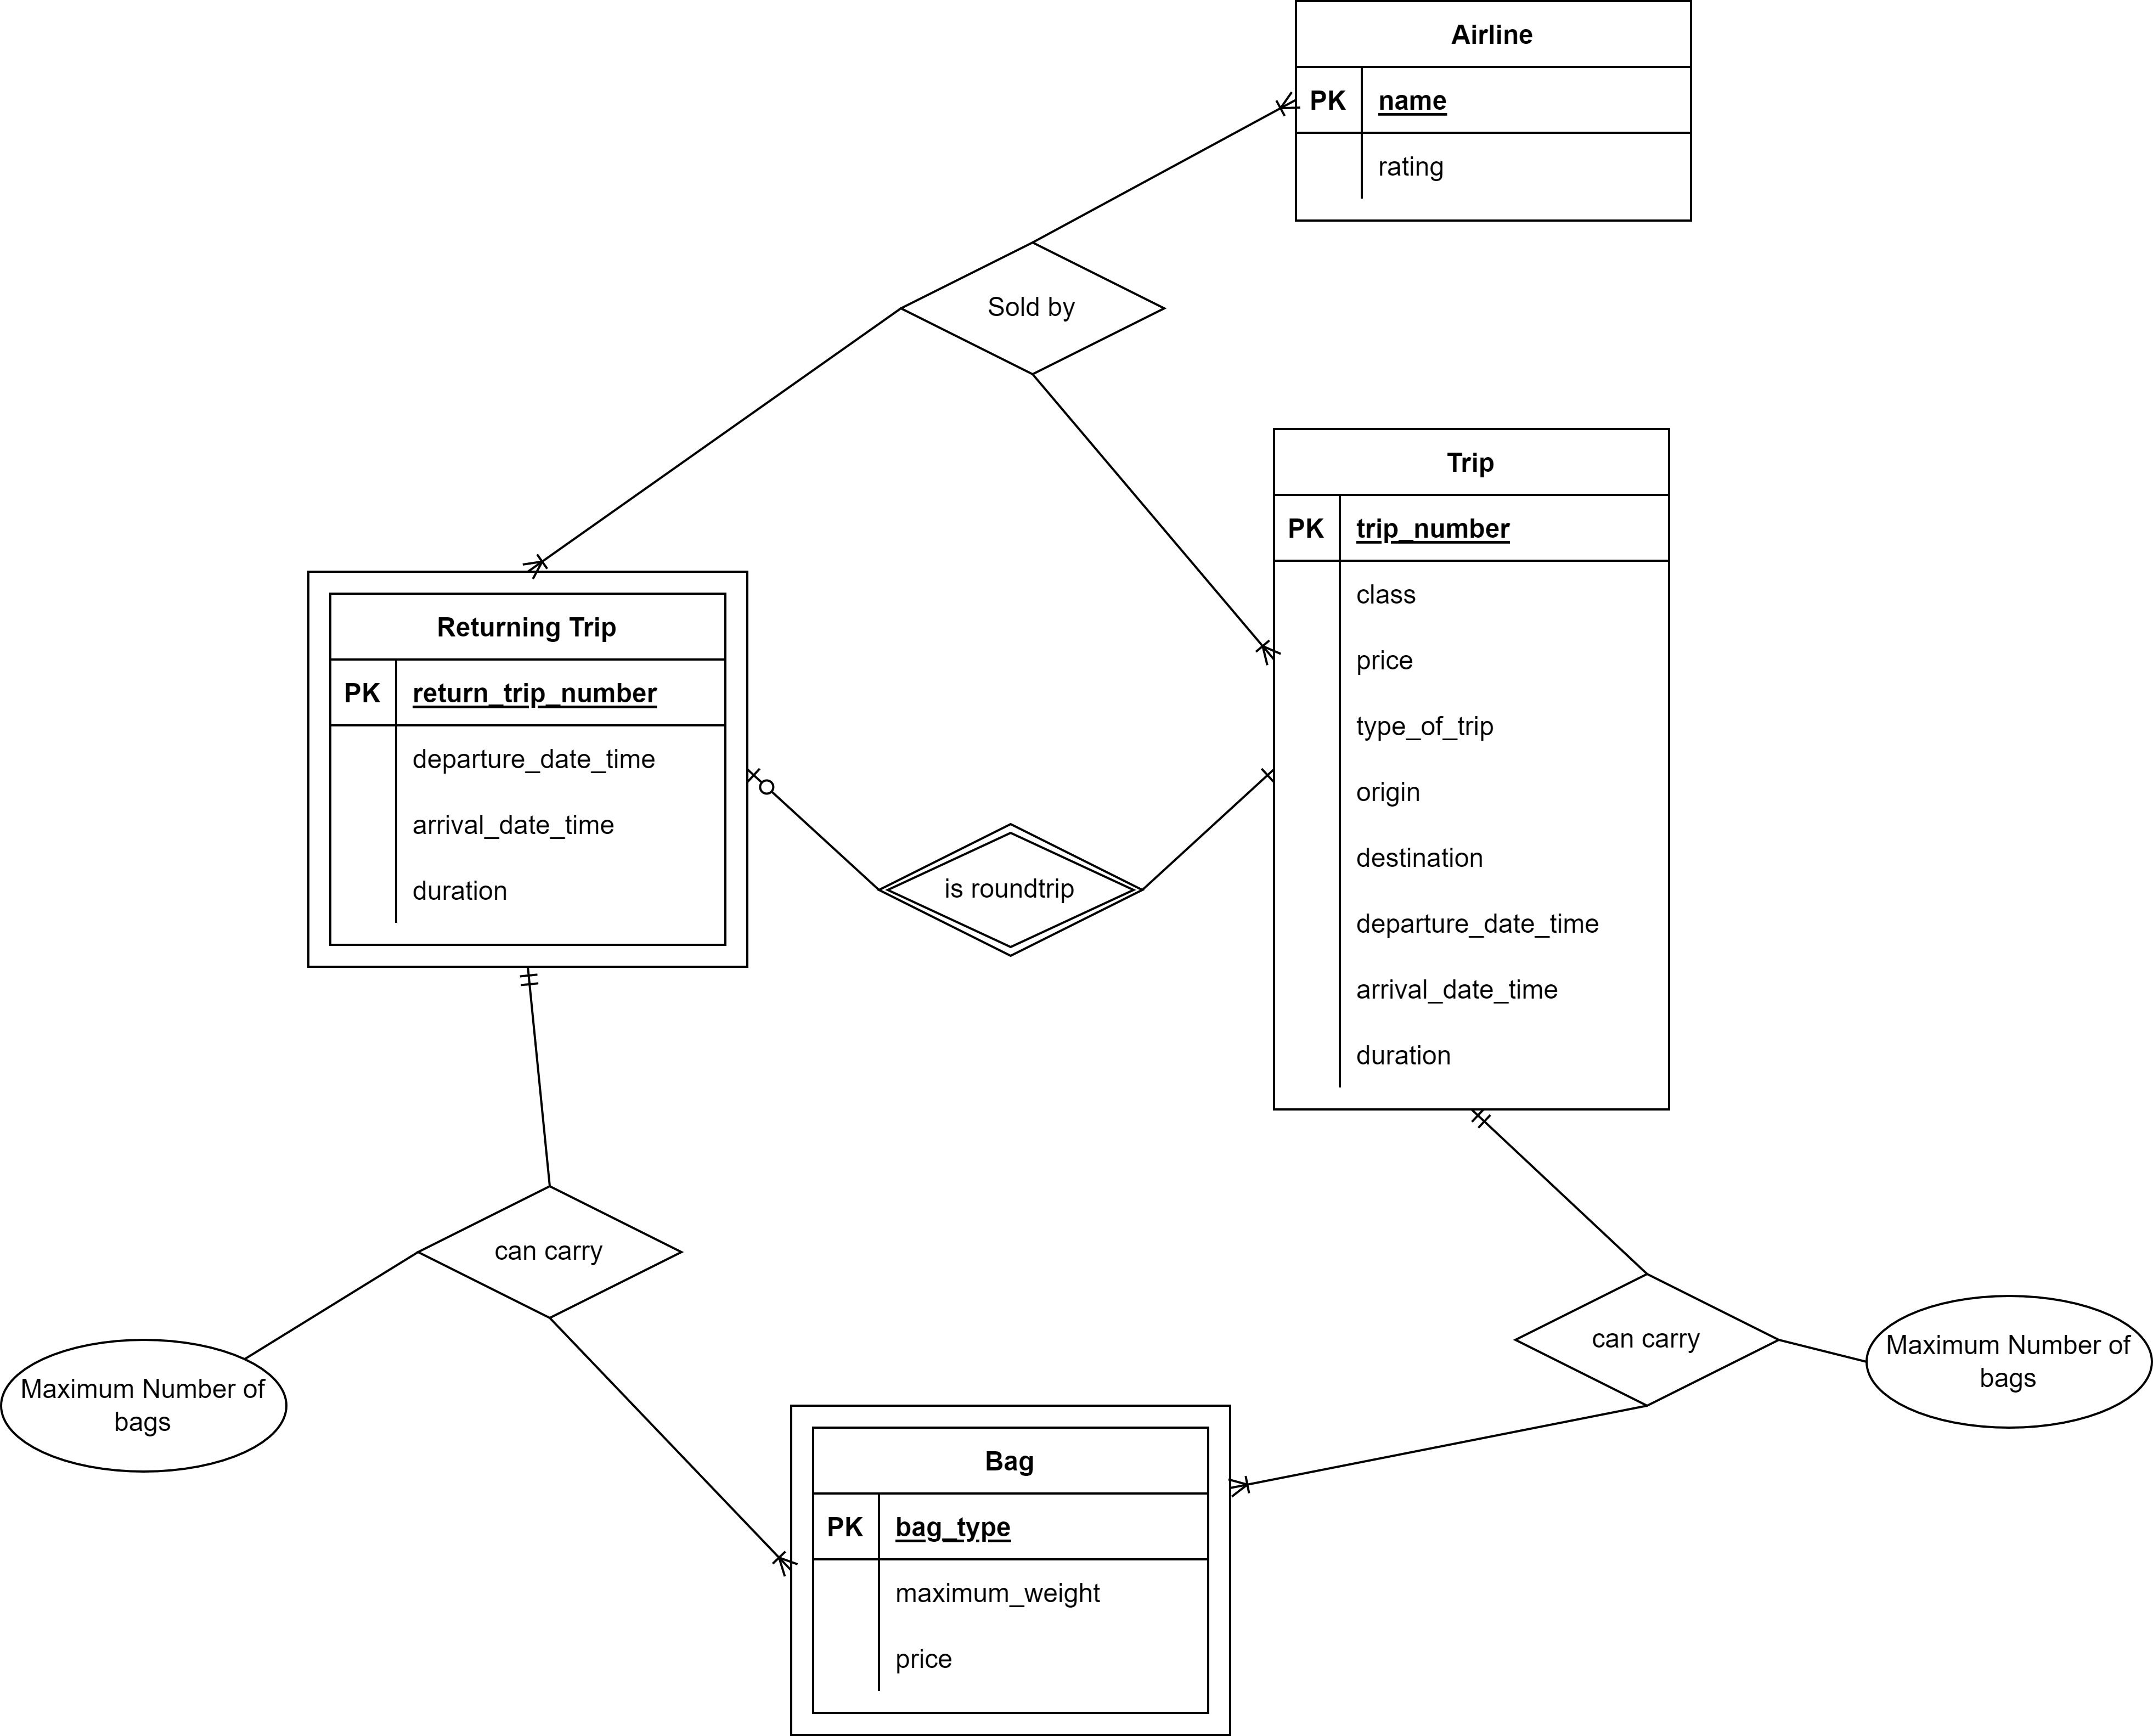attribute: (1866, 1291, 2153, 1428), (4, 1343, 289, 1477)
entity: (1268, 422, 1670, 1114), (786, 1403, 1231, 1736), (1293, 0, 1698, 229)
relationship: (896, 230, 1169, 376), (1514, 1270, 1781, 1403), (425, 1192, 683, 1321)
weakentity: (296, 563, 752, 973)
weakrelationship: (878, 824, 1140, 957)
